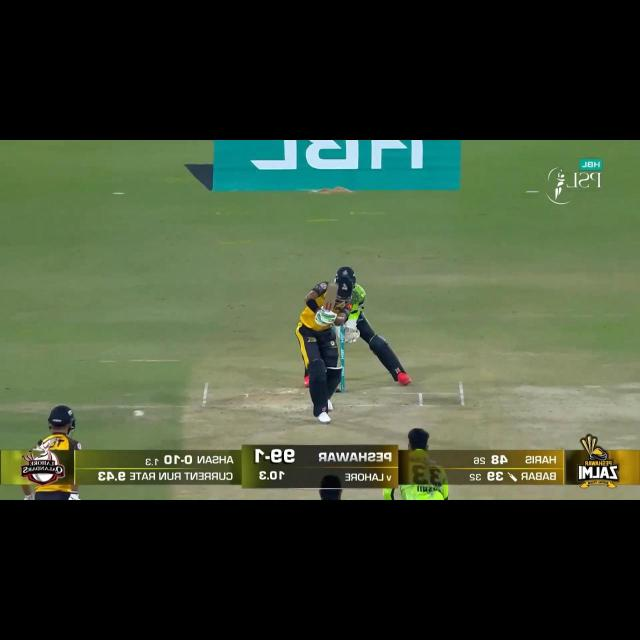bat: (324, 282, 338, 313)
toe: (325, 280, 340, 292)
